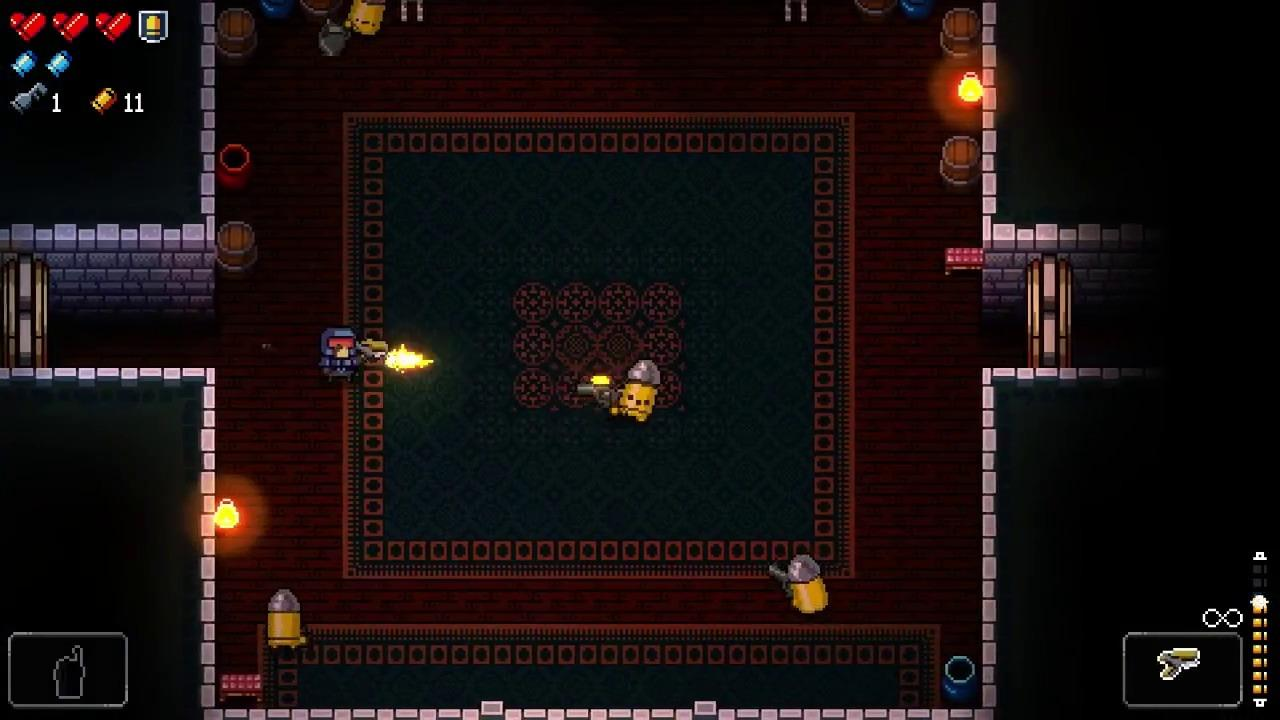bullet_kin: (615, 358, 659, 423), (786, 552, 831, 614), (267, 588, 302, 650), (345, 0, 386, 38)
locked_door: (1026, 252, 1074, 368), (0, 258, 49, 369)
player: (321, 327, 359, 382)
